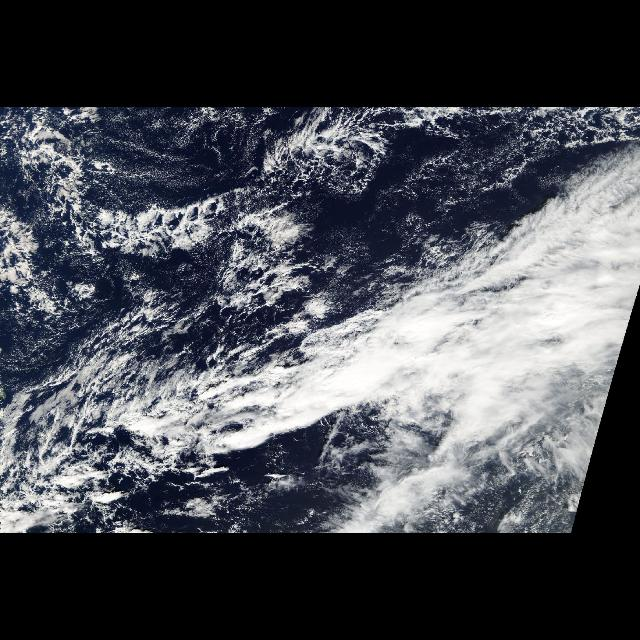Fish: (0, 107, 506, 503)
Gravel: (1, 108, 260, 316)
Sugar: (74, 116, 250, 180)
